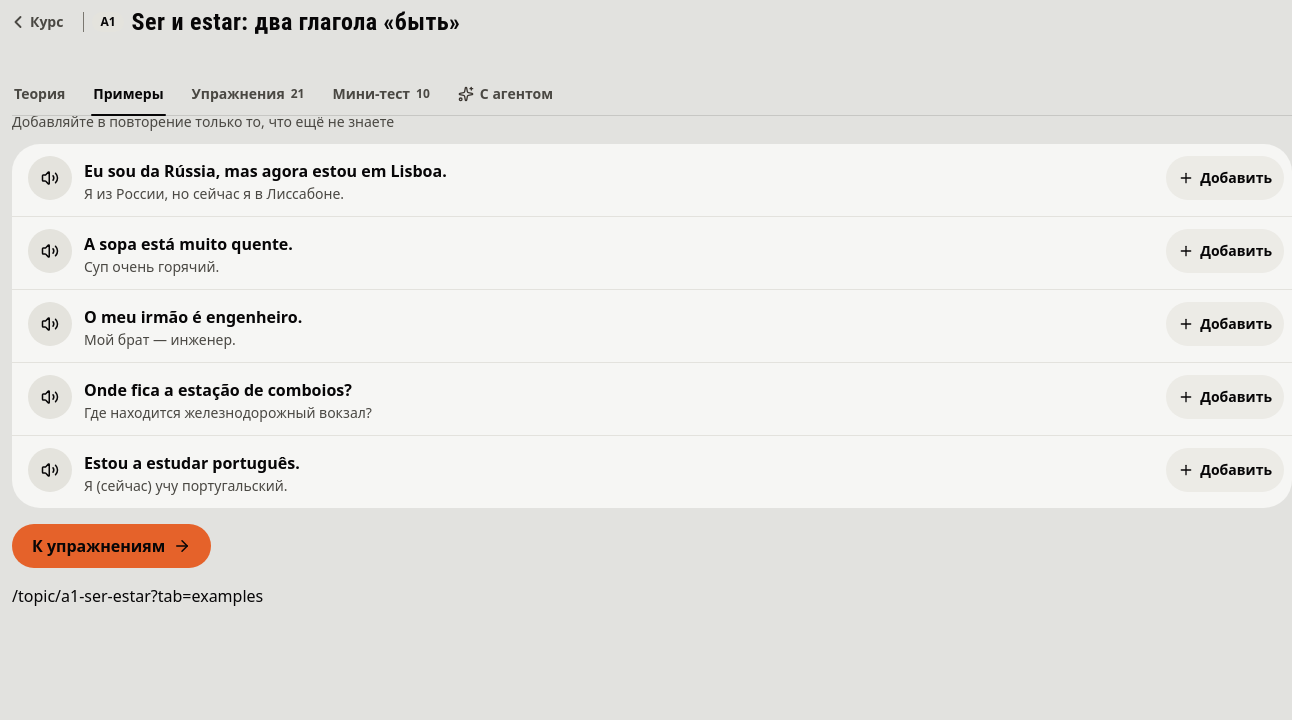
Test case: TopicPage: examples › lists every example with audio and a review toggle; «К упражнениям» switches tabs
Check: the text "Eu sou da Rússia, mas agora estou em Lisboa." is shown, box [84,160,447,182]
Check: the text "Я из России, но сейчас я в Лиссабоне." is shown, box [84,184,344,203]
Click the button named "Прослушать" next to "Я из России, но сейчас я в Лиссабоне." at (50, 178), box [28,156,72,200]
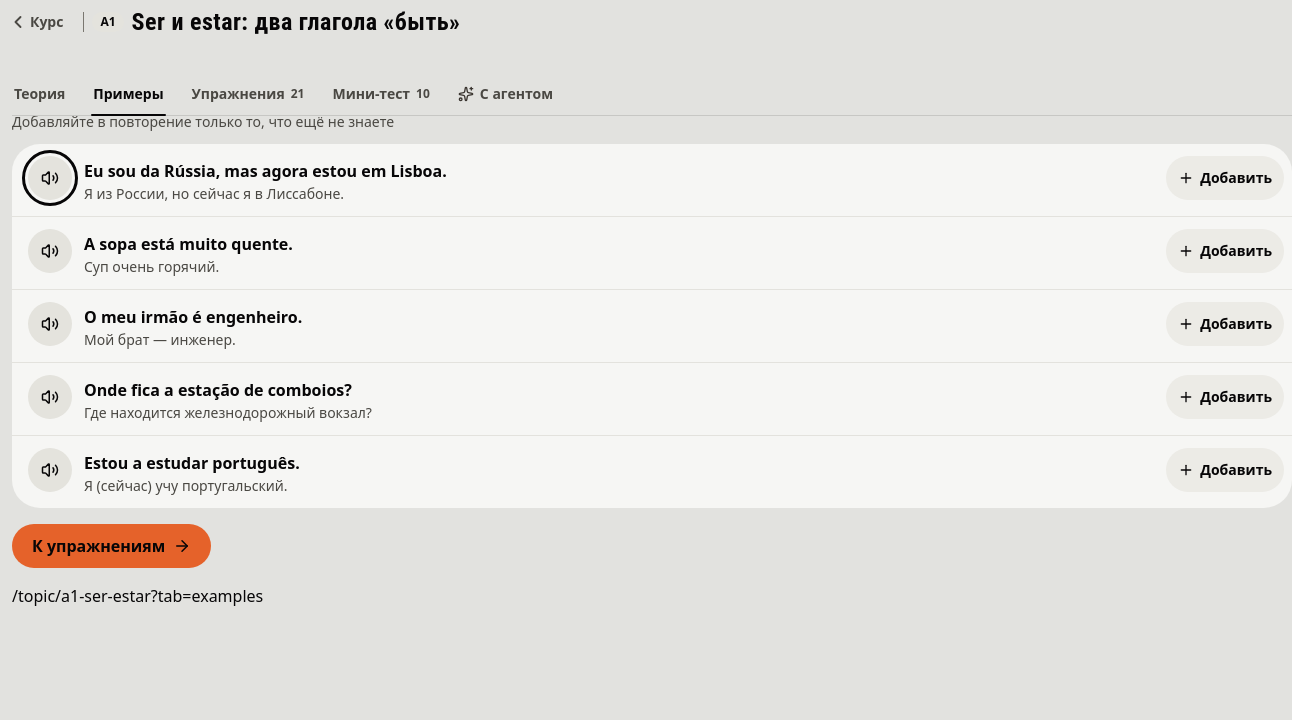
Click the button "К упражнениям" at (112, 546), box [12,524,211,568]
(page scrolled)
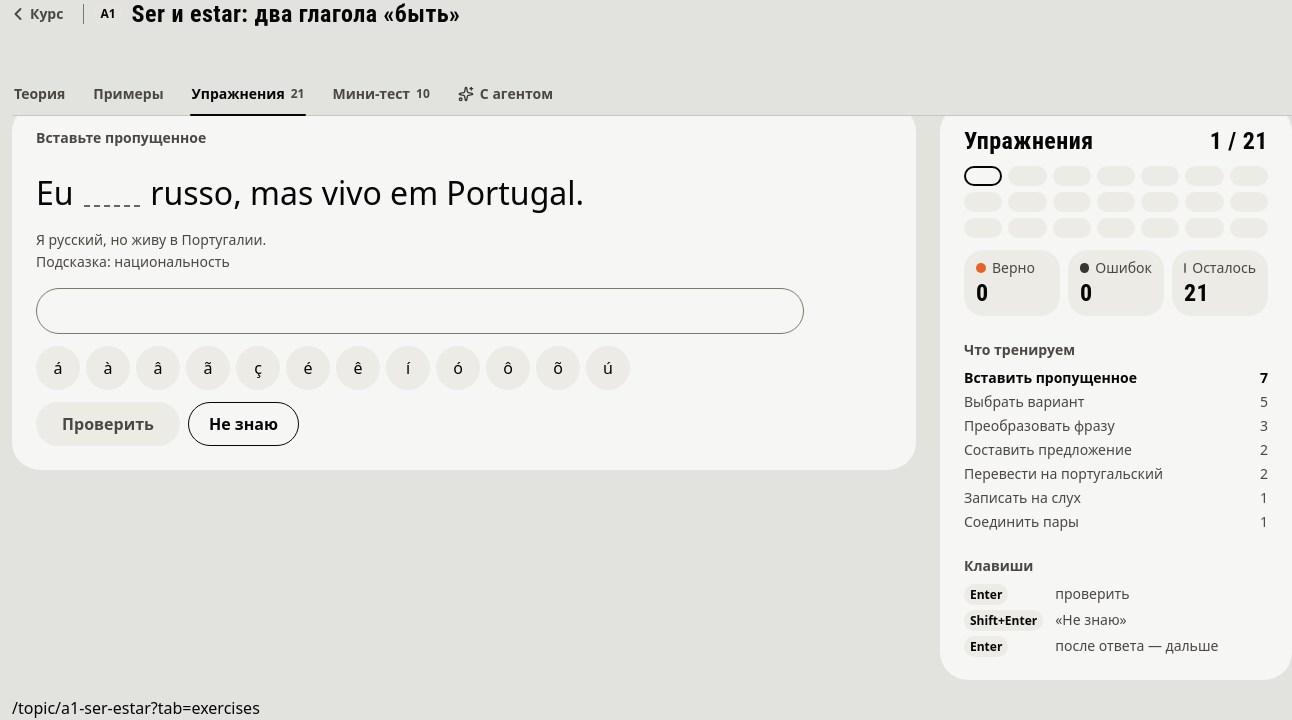
Check: the text with test id "loc" reads "/topic/a1-ser-estar?tab=exercises", box [12,697,260,719]
